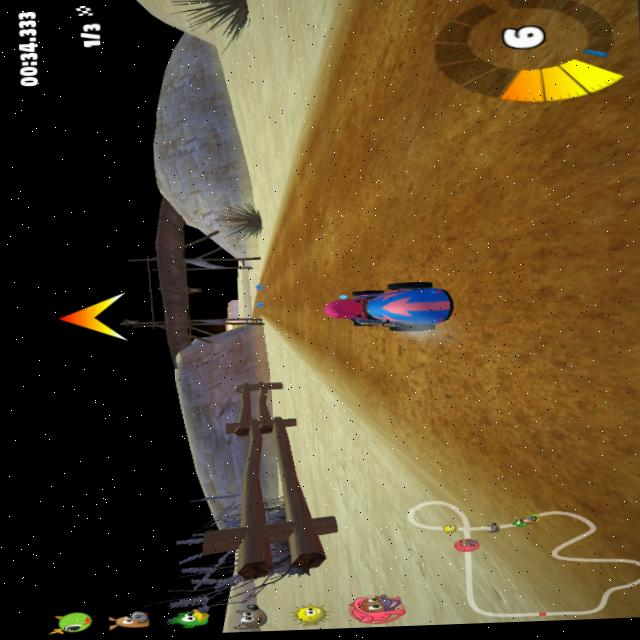bonus: (251, 298, 265, 307), (251, 284, 264, 289)
player_kart: (321, 270, 462, 338)
track: (455, 0, 640, 324), (443, 319, 640, 493), (385, 0, 466, 269), (309, 120, 414, 271), (337, 331, 449, 417), (312, 8, 391, 113), (288, 178, 317, 360), (268, 245, 300, 323), (292, 192, 306, 357), (246, 312, 257, 318)
